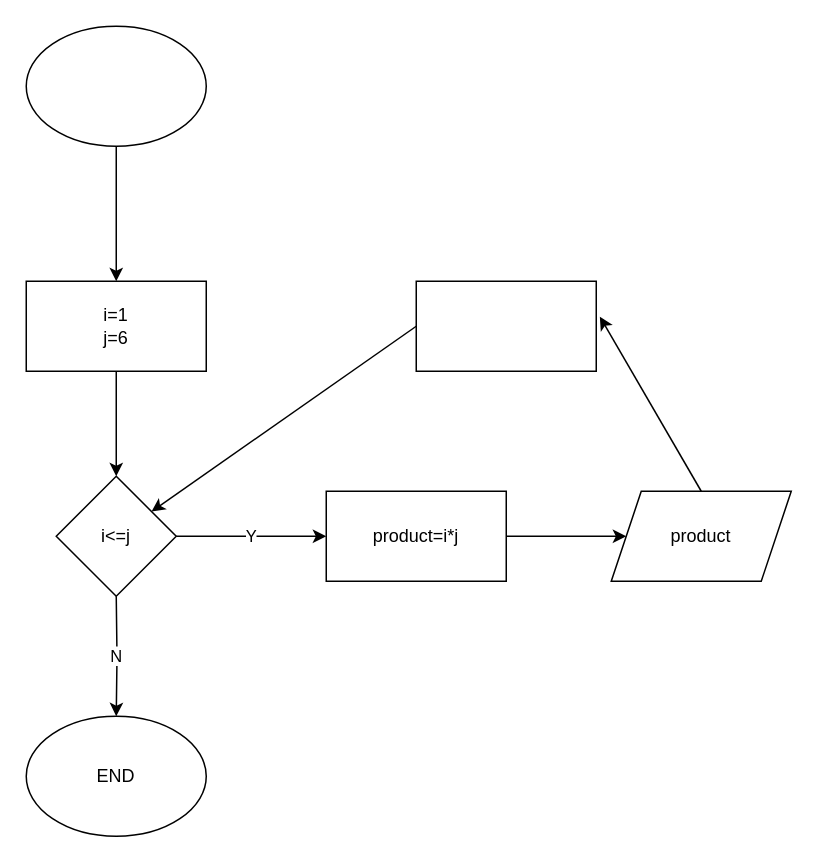
Image size: 818x863. Some labels were removed from this diagram. Each missing label, with the centre of its shape:
"i=i+1" belongs at (505,325).
"START" belongs at (115,85).
